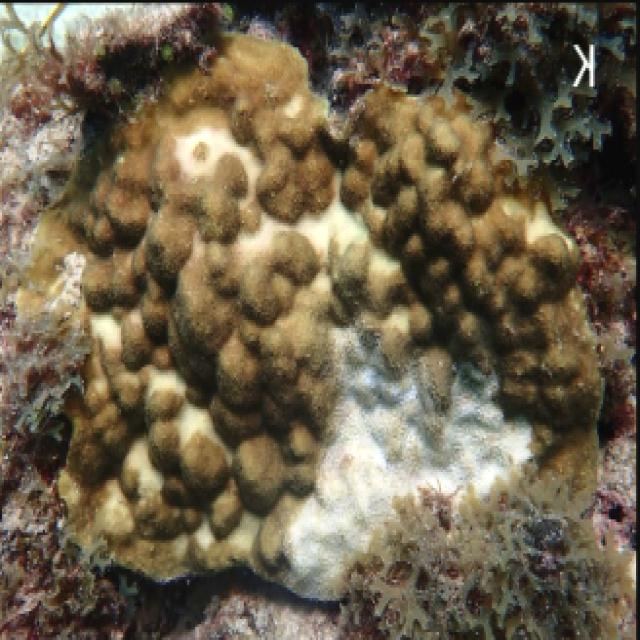Coral: (56, 33, 603, 599)
